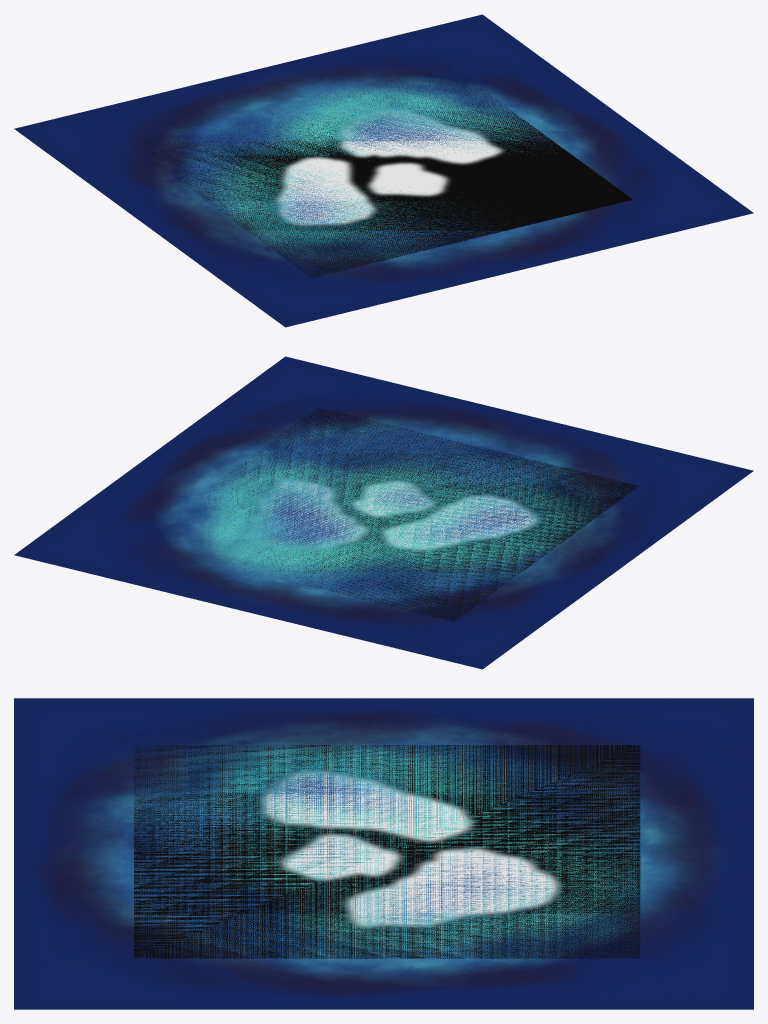
The model's file is pir_m_are_isl_perdida_ocean.fbx.
3 renders of one model, top to bottom at view 1: azimuth 30°, elevation 25°; view 2: azimuth 150°, elevation 25°; view 3: azimuth 270°, elevation 25°, orthographic. The views are drawn at different scales.
Visible parts, largest first — view 1: water_color, water_alpha; view 2: water_color, water_alpha; view 3: water_color, water_alpha.
Boxes of the visible parts, x1=… form: water_color: x1=14, y1=14, x2=753, y2=327; water_alpha: x1=130, y1=65, x2=632, y2=277; water_color: x1=14, y1=356, x2=753, y2=669; water_alpha: x1=196, y1=408, x2=638, y2=621; water_color: x1=14, y1=698, x2=753, y2=1009; water_alpha: x1=134, y1=745, x2=640, y2=958.
Size of what is drawn, in the model's own units: 433952 by 0.0709 by 435470.
Materials: 2 (2 with a texture image).
